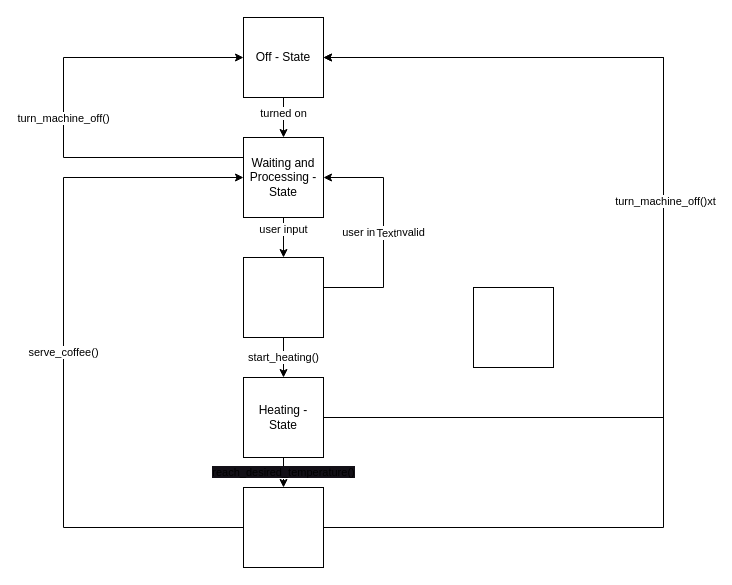
Some shapes in this 732 by 585 pixel diagram are drawn without their labels. Each missing label, with the centre of its shape:
Ready - State: the point at 283,527
Validating - State: the point at 283,297
